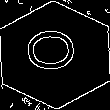O_E: (26, 32, 84, 78)
